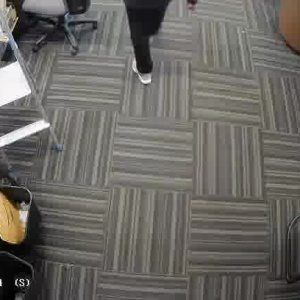person: (125, 0, 175, 83)
